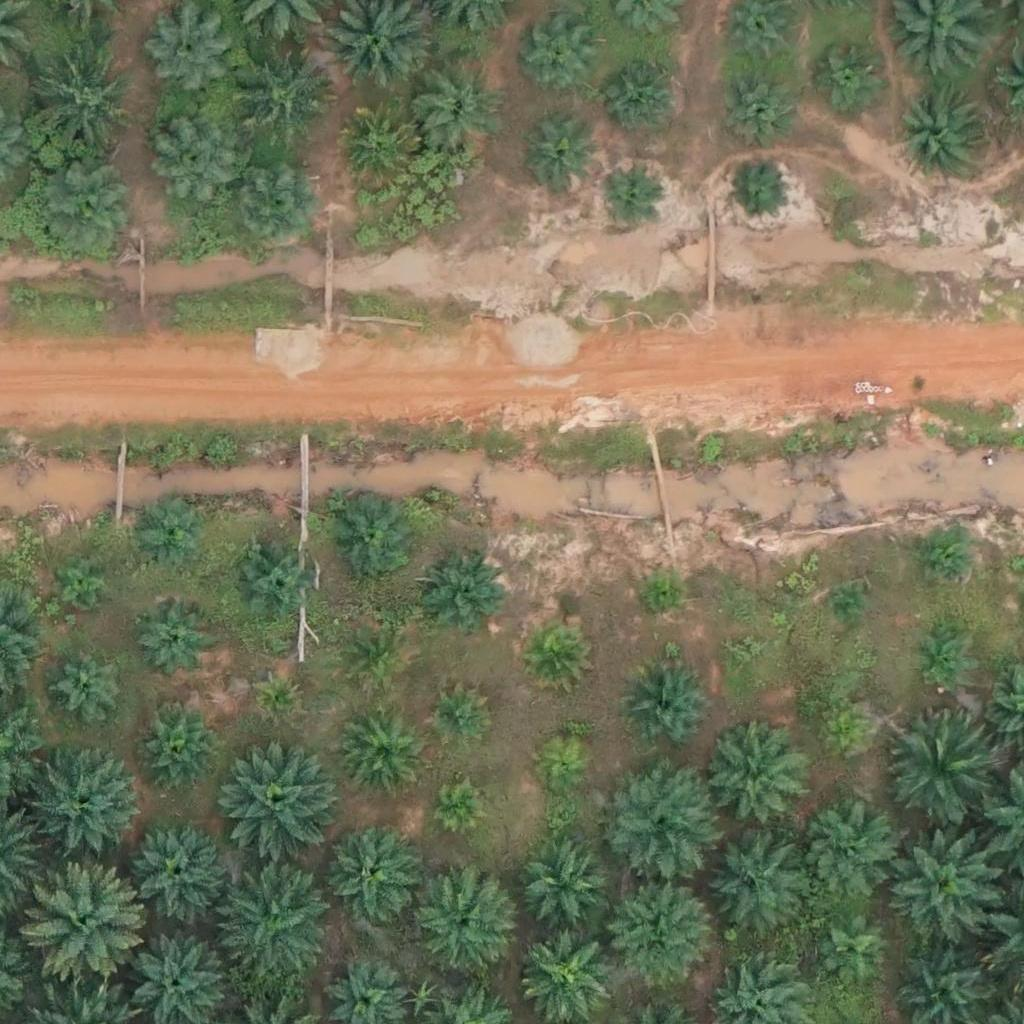Kelapa_Sawit: (222, 740, 335, 854), (23, 865, 136, 979), (881, 708, 994, 821), (886, 840, 999, 953), (602, 763, 714, 877), (222, 874, 334, 987), (32, 748, 144, 861), (23, 52, 135, 165), (709, 731, 809, 832), (607, 888, 707, 989), (130, 821, 230, 922), (230, 45, 330, 146), (803, 801, 903, 901), (710, 838, 810, 938), (411, 875, 511, 975), (322, 823, 422, 923), (41, 165, 141, 265), (622, 660, 710, 748), (520, 841, 608, 929), (228, 537, 316, 625), (134, 704, 222, 792), (711, 65, 799, 153), (330, 103, 418, 191), (142, 9, 230, 97), (153, 116, 240, 205), (329, 493, 416, 581), (338, 708, 425, 796), (898, 89, 985, 177), (415, 70, 502, 158), (231, 162, 318, 250), (425, 561, 500, 637), (134, 603, 209, 679), (606, 55, 681, 131), (812, 37, 887, 112), (524, 22, 599, 97), (522, 122, 597, 197), (815, 908, 890, 983), (136, 500, 199, 563), (525, 621, 588, 684), (595, 163, 658, 226), (57, 655, 119, 718), (728, 159, 790, 222), (348, 627, 410, 690), (535, 740, 585, 791), (918, 530, 968, 580), (913, 633, 963, 683), (437, 783, 487, 833), (432, 691, 482, 741), (59, 560, 109, 610), (827, 591, 865, 629), (641, 575, 678, 613), (817, 710, 854, 747), (256, 676, 293, 713), (730, 638, 755, 664)
